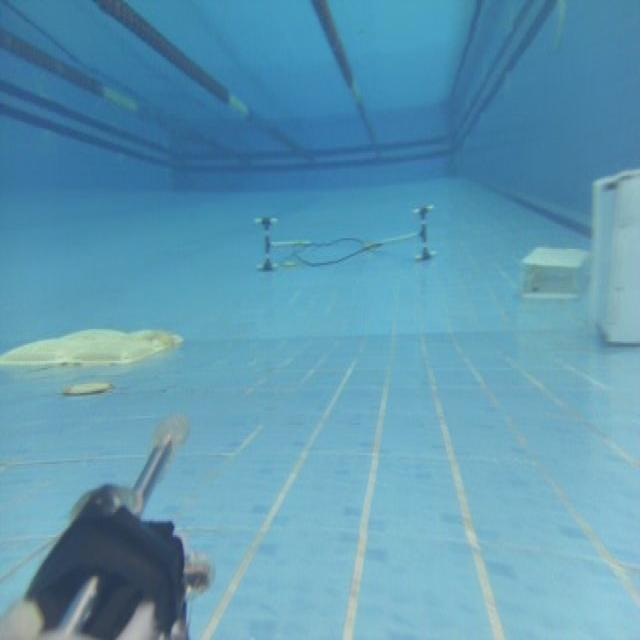Cube: (587, 164, 638, 346)
Cuboid: (519, 242, 589, 300)
